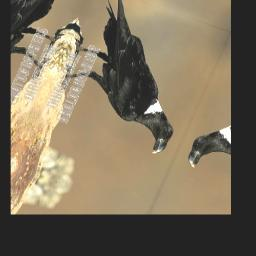Crow: (40, 0, 219, 158)
